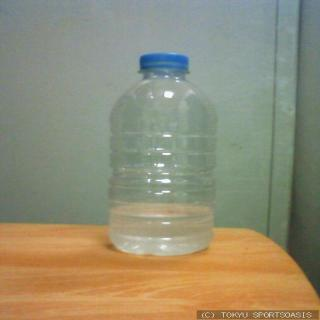Anorganik: (102, 48, 223, 262)
